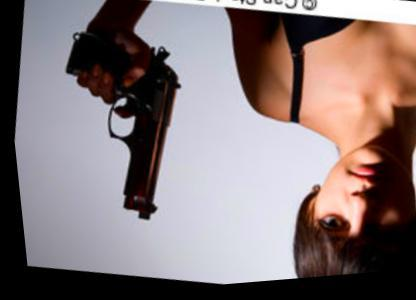pistol: (42, 24, 198, 232)
